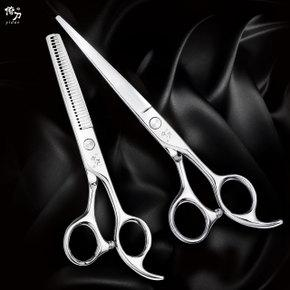scissor: (26, 21, 275, 277)
